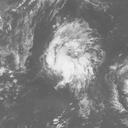cyclone: (47, 21, 101, 86)
